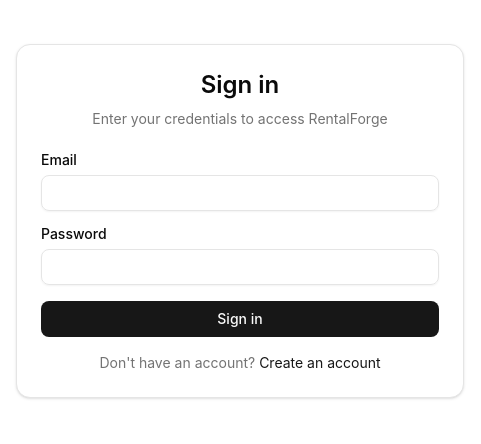
Login page › shows validation errors on empty submit
Click the button "Sign in": {"x": 240, "y": 319} [41,301,439,337]
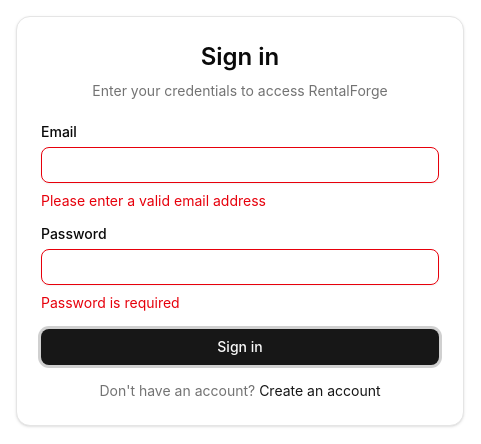
Expected: the text "Please enter a valid email address" is shown, [41,192,266,209]
